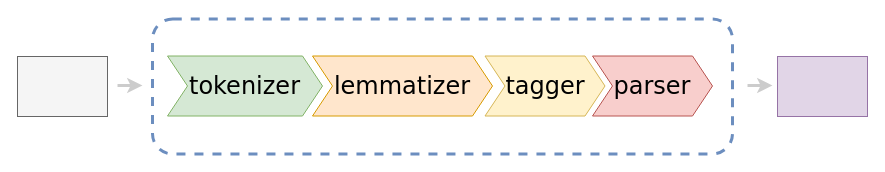
The diagram is 885 pixels wide and 172 high, and some of its shapes have lost their labels. Here are the shapes that lost their labels. From the top down, the box of each, then its label:
(16, 56, 108, 116): Text
(776, 56, 868, 116): Doc
